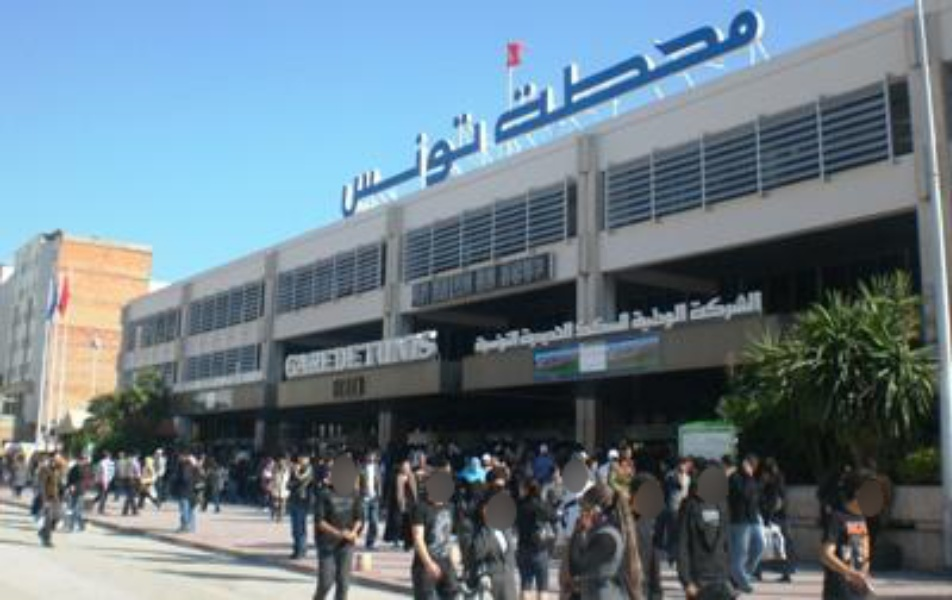text: (497, 1, 512, 155), (513, 1, 528, 155), (529, 1, 544, 155), (545, 1, 560, 155), (561, 1, 576, 155), (577, 1, 592, 155), (593, 1, 608, 155), (609, 1, 624, 155), (625, 1, 640, 155), (641, 1, 656, 155), (657, 1, 672, 155), (673, 1, 688, 155), (689, 1, 704, 155), (705, 1, 720, 155), (721, 1, 736, 155), (737, 1, 752, 155), (753, 1, 768, 155), (353, 101, 368, 222), (369, 101, 384, 222), (385, 101, 400, 222), (401, 101, 416, 222), (417, 101, 432, 222), (433, 101, 448, 222), (449, 101, 464, 222), (465, 101, 480, 222), (343, 101, 352, 222), (481, 101, 488, 222), (769, 1, 774, 155), (705, 289, 720, 329), (721, 289, 736, 329), (737, 289, 752, 329), (337, 370, 352, 408), (353, 370, 368, 408), (529, 315, 544, 351), (545, 315, 560, 351), (369, 329, 384, 365), (385, 329, 400, 365), (401, 329, 416, 365), (417, 329, 432, 365), (691, 289, 704, 329), (641, 301, 656, 334), (657, 301, 672, 334), (673, 301, 688, 334), (577, 310, 592, 343), (593, 310, 608, 343), (609, 310, 624, 343), (289, 346, 304, 379), (305, 346, 320, 379), (321, 346, 336, 379), (337, 339, 352, 372), (561, 315, 574, 351), (517, 315, 528, 351), (481, 327, 496, 353), (497, 327, 512, 353), (629, 301, 640, 334), (753, 289, 762, 329), (433, 329, 443, 365), (353, 339, 362, 372), (469, 327, 480, 353), (329, 370, 336, 408), (513, 327, 522, 353), (362, 329, 368, 365), (625, 310, 631, 343), (331, 339, 336, 372), (572, 310, 576, 343), (369, 370, 372, 408), (286, 346, 288, 379), (337, 346, 338, 379)
